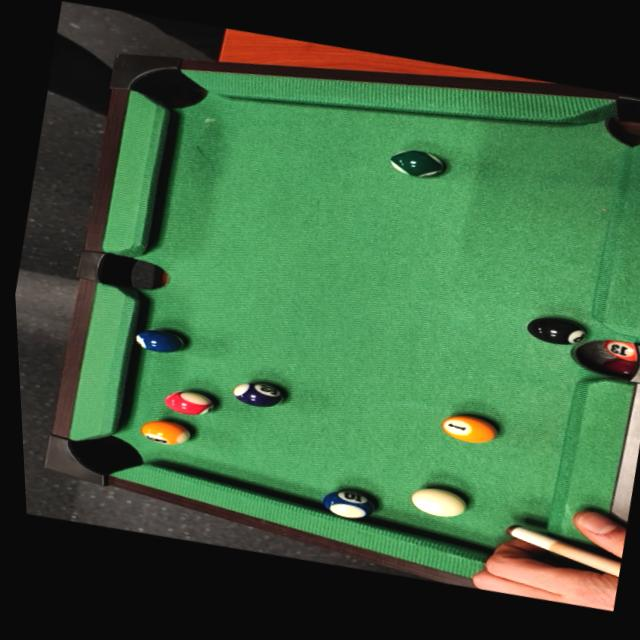cue ball: (401, 478, 476, 526)
other: (315, 479, 387, 528), (379, 140, 453, 187), (516, 306, 590, 352), (432, 407, 502, 451), (224, 373, 287, 416), (126, 321, 190, 359), (157, 384, 219, 422), (133, 415, 194, 451)
